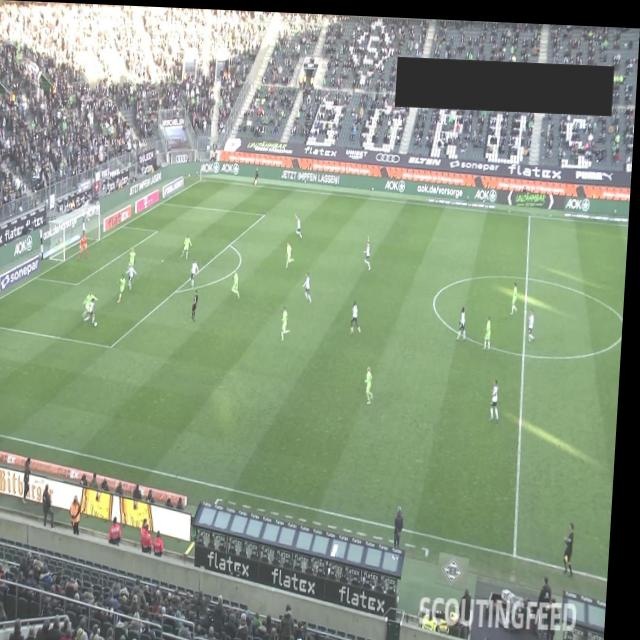goalkeeper: (81, 233, 92, 260)
player: (494, 374, 506, 418), (129, 250, 141, 289), (305, 268, 318, 301), (368, 362, 379, 401), (354, 296, 366, 331), (86, 291, 102, 317), (460, 302, 472, 336), (513, 275, 523, 310), (366, 232, 376, 266), (531, 304, 541, 338), (284, 303, 293, 339), (184, 232, 196, 258), (120, 271, 130, 302), (487, 311, 496, 345), (88, 297, 99, 323), (234, 269, 244, 297), (193, 256, 202, 286), (296, 210, 306, 236), (288, 239, 297, 265)
referee: (569, 517, 582, 571), (194, 286, 202, 321), (255, 164, 262, 183)
